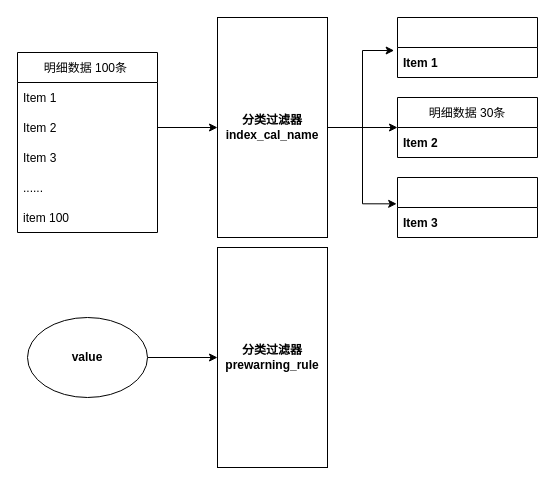
Some shapes in this 555 by 485 pixel diagram are drawn without their labels. The box of each missing label's shape, as (x1, y1, x2, y2) in pixels:
明细数据 20条: (396, 16, 538, 78)
明细数据 50条: (396, 176, 538, 238)
